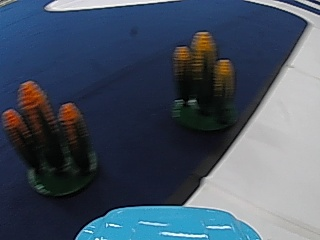corn: (8, 84, 94, 193), (172, 39, 239, 132)
